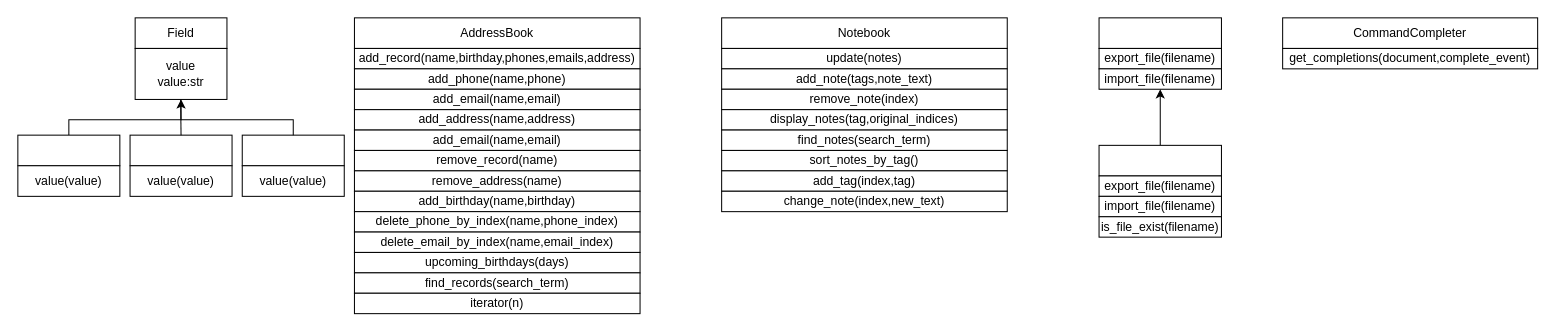
Some shapes in this 1556 by 332 pixel diagram are drawn without their labels. Each missing label, with the centre of its shape:
"Birthday" belongs at pixel 180 150.
"Email" belongs at pixel 292 150.
"Phone" belongs at pixel 68 150.
"PickleStorage" belongs at pixel 1159 160.
"Storage" belongs at pixel 1159 32.
